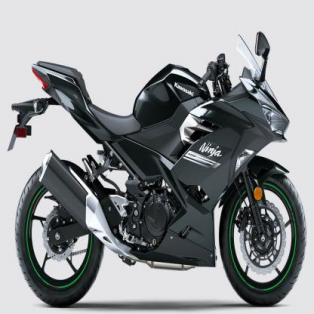Motocicleta: (6, 25, 310, 308)
